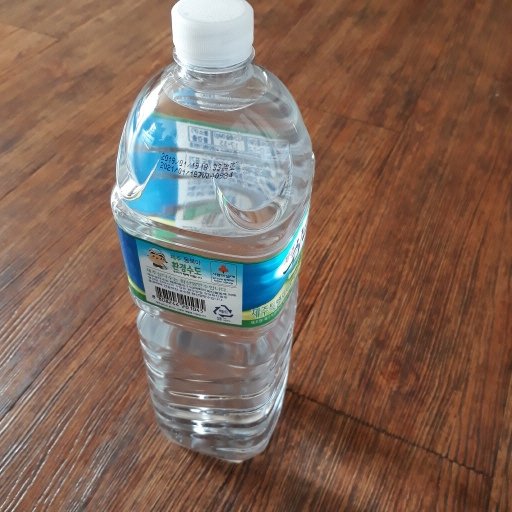Plastic_0: (108, 1, 317, 468)
